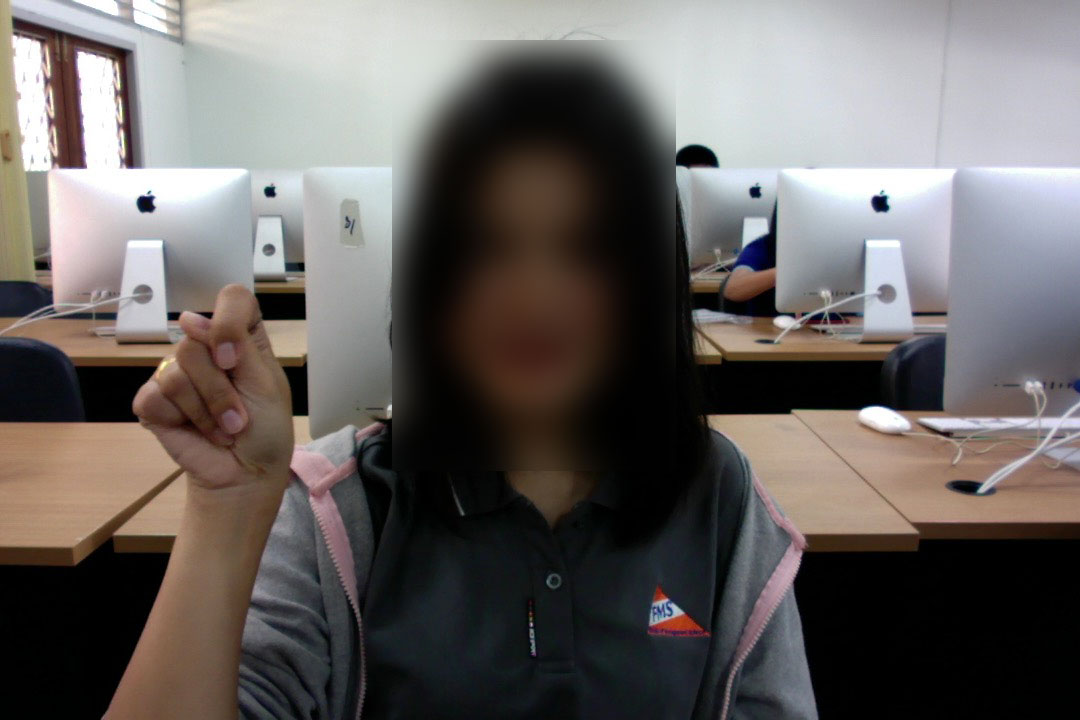tor: (128, 282, 299, 524)
